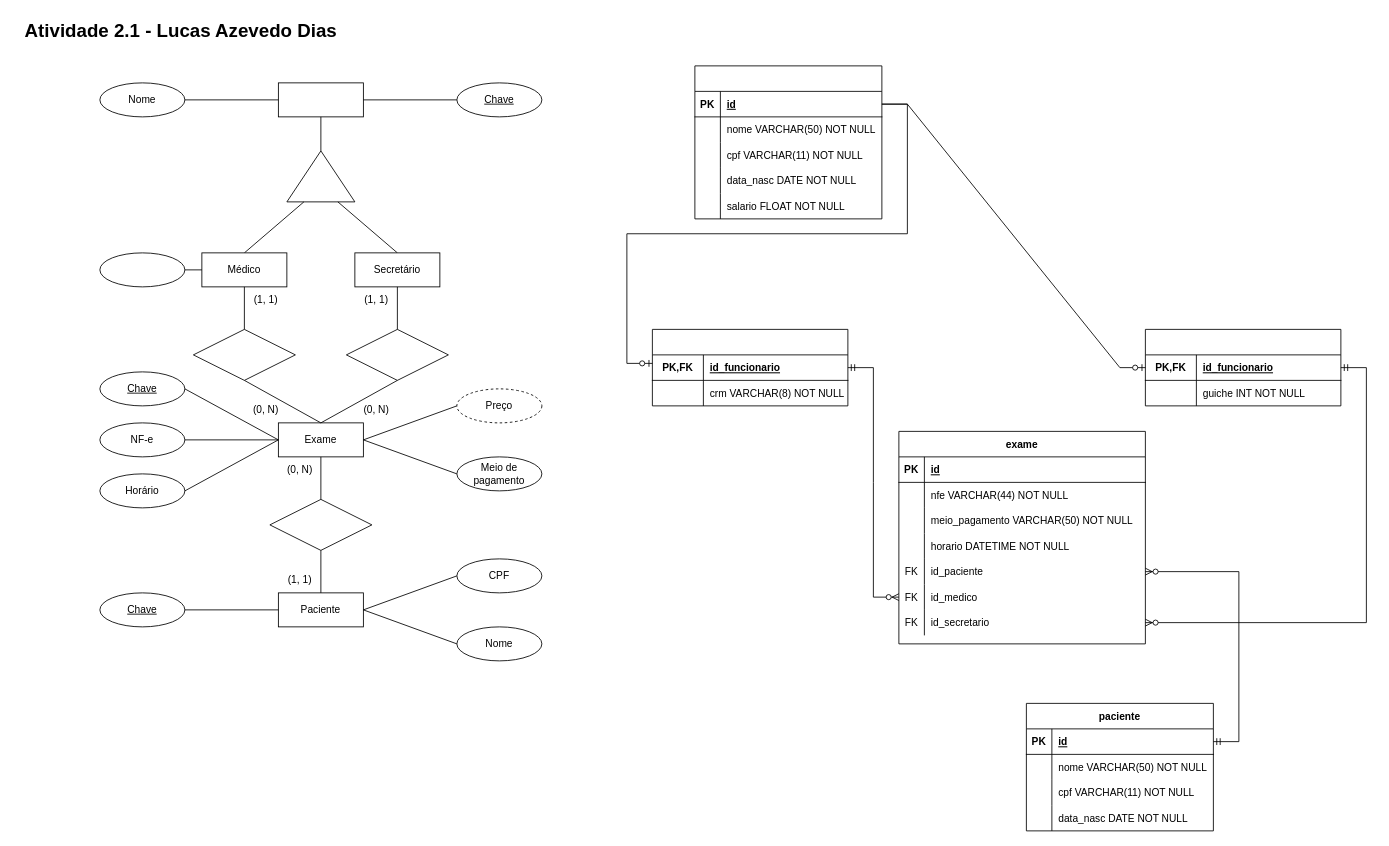
Image size: 1389x846. Some labels were removed from this diagram. Each missing label, with the box of its shape:
atende: (193, 329, 295, 380)
compra: (269, 499, 372, 550)
CRM: (99, 252, 185, 287)
funcionario: (694, 65, 882, 219)
Funcionário: (278, 82, 363, 117)
marca: (346, 329, 448, 380)
medico: (652, 329, 848, 406)
secretario: (1145, 329, 1341, 406)
